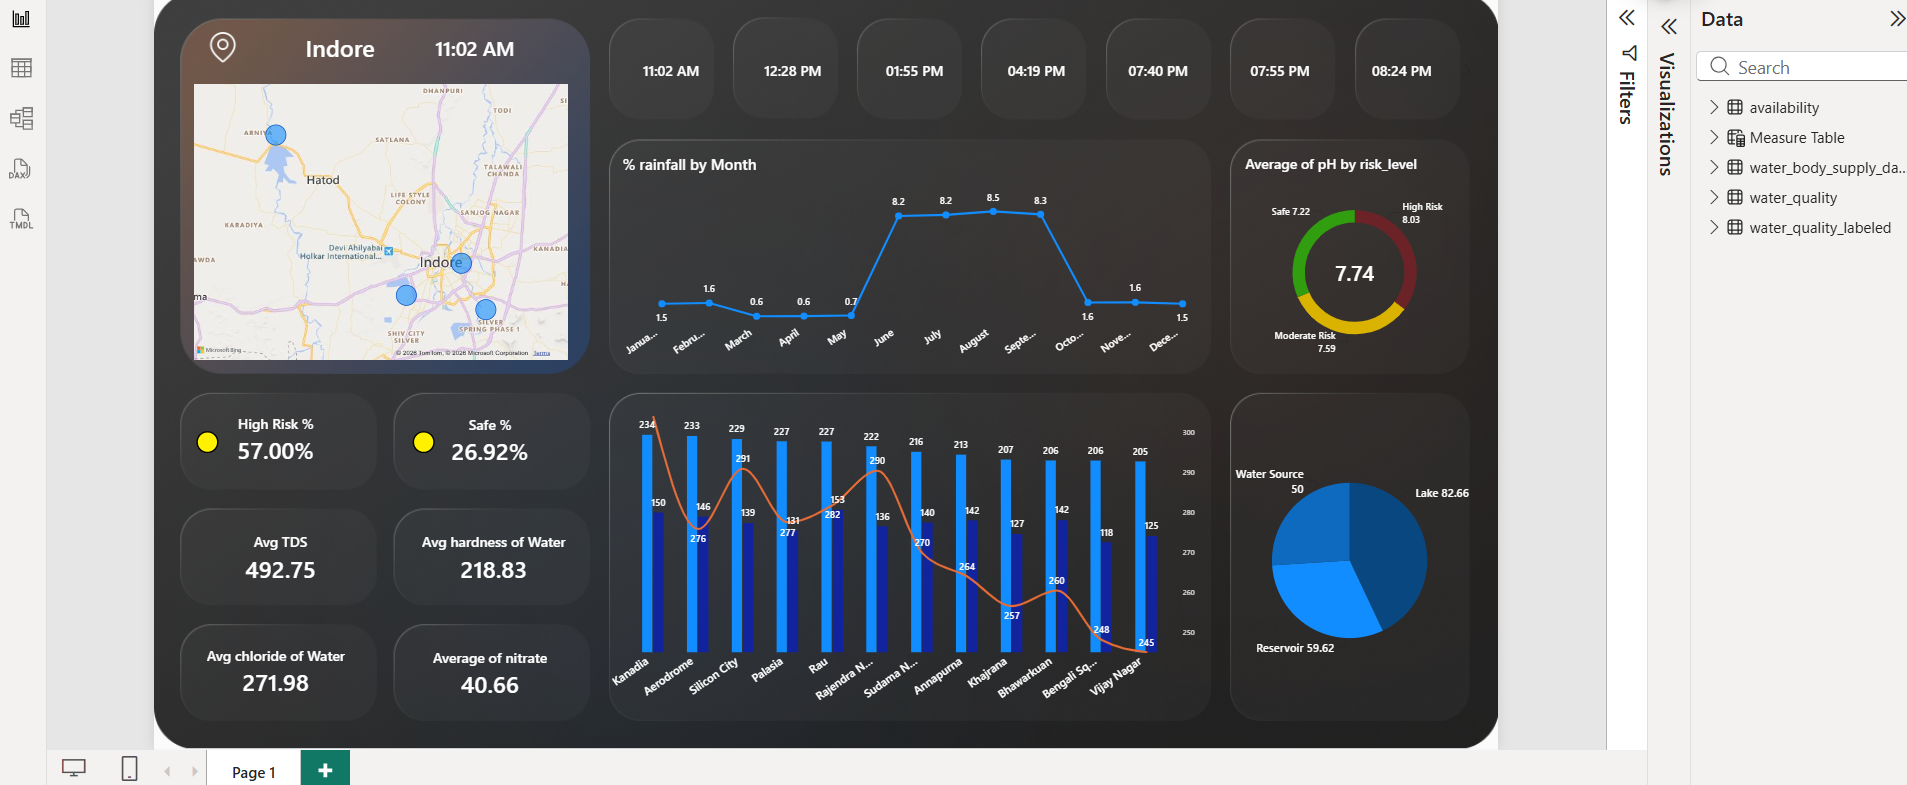

This screenshot's page, from the dashboard's own definition file:
{"tool":"powerbi","page":{"name":"Page 1","canvas":[1920,1080],"ordinal":0},"visuals":[{"type":"image","box":[76.8,53.6,42.9,44.6],"z":0},{"type":"cardVisual","fields":{"Data":["Min(water_body_supply_data.location)"]},"box":[146.4,41.1,239.3,71.4],"z":1000},{"type":"cardVisual","fields":{"Data":["Min(availability.supply_hours)"]},"box":[385.7,44.6,189.3,64.3],"z":2000},{"type":"cardVisual","fields":{"Data":["Measure Table.Safe %"]},"box":[353.6,583.9,253.6,110.7],"z":3000},{"type":"cardVisual","fields":{"Data":["Measure Table.High Risk %"]},"box":[41.1,580.4,266.1,114.3],"z":4000},{"type":"cardVisual","fields":{"Data":["Measure Table.Avg TDS"]},"box":[55.4,748.2,251.8,116.1],"z":5000},{"type":"cardVisual","fields":{"Data":["Measure Table.TDS Status"]},"box":[350,608.9,71.4,60.7],"z":6000},{"type":"map","fields":{"Size":["CountNonNull(water_body_supply_data.zone_name)"],"X":["water_body_supply_data.longitude"],"Y":["water_body_supply_data.latitude"]},"box":[41.1,114.3,566.1,425],"z":7000},{"type":"cardVisual","fields":{"Data":["Measure Table.TDS Status"]},"box":[41.1,608.9,71.4,60.7],"z":8000},{"type":"lineChart","fields":{"Category":["availability.date.Variation.Date Hierarchy.Month"],"Y":["Avg(availability.rainfall)"]},"box":[653.6,214.3,858.9,325],"z":9000},{"type":"advancedSlicerVisual","fields":{"Values":["availability.supply_hours"]},"box":[635.7,23.2,1251.8,173.2],"z":10000},{"type":"donutChart","fields":{"Category":["water_quality_labeled.risk_level"],"Y":["Avg(water_quality_labeled.pH)"]},"box":[1542.9,214.3,344.6,325],"z":11000},{"type":"lineClusteredColumnComboChart","fields":{"Category":["water_quality_labeled.zone"],"Y":["Avg(water_quality_labeled.hardness)","Sum(water_quality_labeled.turbidity)"],"Y2":["Avg(water_quality_labeled.chloride)"]},"box":[635.7,580.4,876.8,453.6],"z":12000},{"type":"cardVisual","fields":{"Data":["Avg(water_quality_labeled.hardness)"]},"box":[350,748.2,271.4,116.1],"z":13000},{"type":"cardVisual","fields":{"Data":["Avg(water_quality_labeled.chloride)"]},"box":[41.1,901.8,266.1,132.1],"z":14000},{"type":"cardVisual","fields":{"Data":["Avg(water_quality_labeled.nitrate)"]},"box":[353.6,908.9,253.6,125],"z":15000},{"type":"pieChart","fields":{"Category":["water_body_supply_data.water_body_type"],"Y":["Min(water_quality.hardness)"]},"box":[1496.4,539.3,423.2,541.1],"z":16000}]}

Visuals, with their boxes on the page's 1920x1080 design canvas (x1, y1, x2, y2). These are canvas units, not pixel positions in the 1907x785 screenshot, which may show the page scaled, cropped or inside an application window:
image: <bbox>77, 54, 120, 98</bbox>
cardVisual - Min(water_body_supply_data.location): <bbox>146, 41, 386, 112</bbox>
cardVisual - Min(availability.supply_hours): <bbox>386, 45, 575, 109</bbox>
cardVisual - Measure Table.Safe %: <bbox>354, 584, 607, 695</bbox>
cardVisual - Measure Table.High Risk %: <bbox>41, 580, 307, 695</bbox>
cardVisual - Measure Table.Avg TDS: <bbox>55, 748, 307, 864</bbox>
cardVisual - Measure Table.TDS Status: <bbox>350, 609, 421, 670</bbox>
map - CountNonNull(water_body_supply_data.zone_name) x water_body_supply_data.longitude: <bbox>41, 114, 607, 539</bbox>
cardVisual - Measure Table.TDS Status: <bbox>41, 609, 112, 670</bbox>
lineChart - availability.date.Variation.Date Hierarchy.Month x Avg(availability.rainfall): <bbox>654, 214, 1512, 539</bbox>
advancedSlicerVisual - availability.supply_hours: <bbox>636, 23, 1888, 196</bbox>
donutChart - water_quality_labeled.risk_level x Avg(water_quality_labeled.pH): <bbox>1543, 214, 1888, 539</bbox>
lineClusteredColumnComboChart - water_quality_labeled.zone x Avg(water_quality_labeled.hardness): <bbox>636, 580, 1512, 1034</bbox>
cardVisual - Avg(water_quality_labeled.hardness): <bbox>350, 748, 621, 864</bbox>
cardVisual - Avg(water_quality_labeled.chloride): <bbox>41, 902, 307, 1034</bbox>
cardVisual - Avg(water_quality_labeled.nitrate): <bbox>354, 909, 607, 1034</bbox>
pieChart - water_body_supply_data.water_body_type x Min(water_quality.hardness): <bbox>1496, 539, 1920, 1080</bbox>
